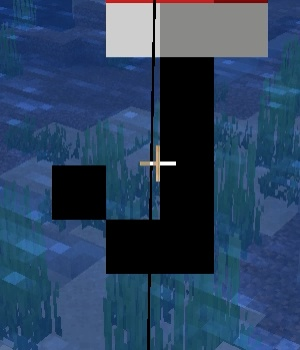up: (49, 1, 270, 285)
